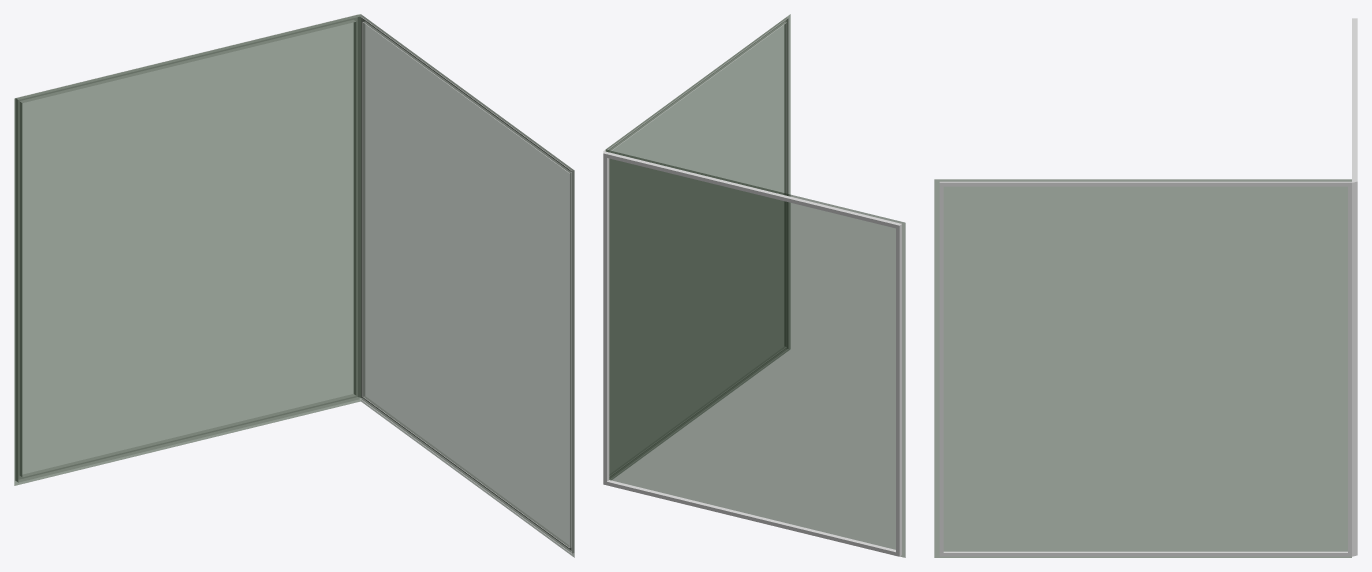
The model's file is vidro de proteção da sala de óptica.fbx.
3 renders of one model, left to right at view 1: azimuth 30°, elevation 25°; view 2: azimuth 150°, elevation 25°; view 3: azimuth 270°, elevation 25°, orthographic. The views are drawn at different scales.
Visible parts, largest first — view 1: Plane, Plane.001; view 2: Plane, Plane.001; view 3: Plane, Plane.001.
Boxes of the visible parts, left/top/right/bottom form: Plane: left=14, top=14, right=574, bottom=557; Plane.001: left=15, top=14, right=574, bottom=553; Plane: left=605, top=14, right=905, bottom=557; Plane.001: left=603, top=17, right=901, bottom=556; Plane: left=934, top=179, right=1351, bottom=557; Plane.001: left=939, top=18, right=1357, bottom=556.
Size of the model in its own units: 188 by 200 by 203.
